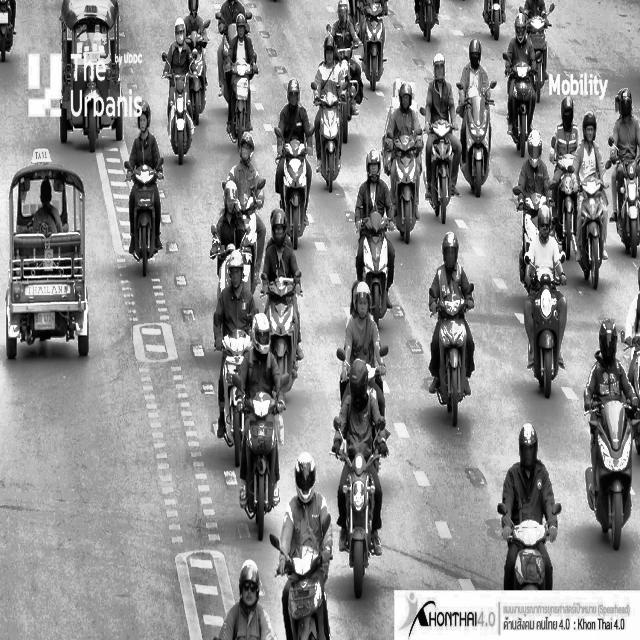Helmet: (511, 416, 545, 469), (290, 447, 320, 507), (236, 557, 266, 615), (596, 317, 625, 372), (223, 244, 250, 298), (578, 105, 604, 156), (350, 280, 379, 323), (345, 358, 373, 400), (441, 227, 461, 283), (250, 312, 274, 358), (362, 146, 386, 190), (618, 79, 638, 131), (271, 205, 293, 252), (284, 72, 306, 116), (533, 204, 557, 244), (466, 31, 487, 75), (396, 82, 420, 120), (132, 96, 152, 138), (558, 94, 578, 133), (429, 53, 451, 87), (512, 14, 532, 48), (233, 14, 254, 46), (171, 18, 189, 53), (322, 33, 338, 72), (334, 0, 353, 32), (188, 0, 200, 21)
